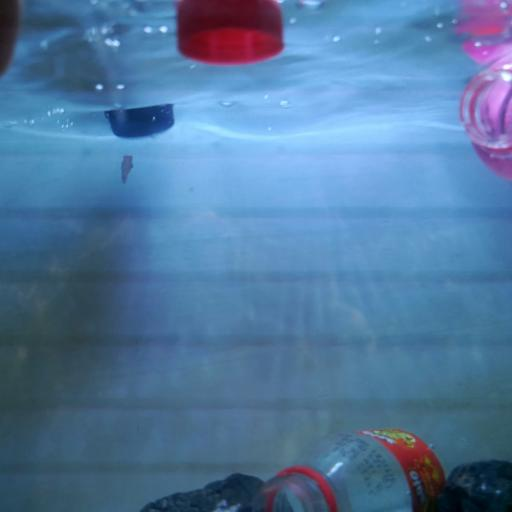bottle_cap: (179, 0, 283, 62), (108, 105, 174, 138)
plastic_bottle: (260, 423, 512, 511), (462, 56, 512, 176)
